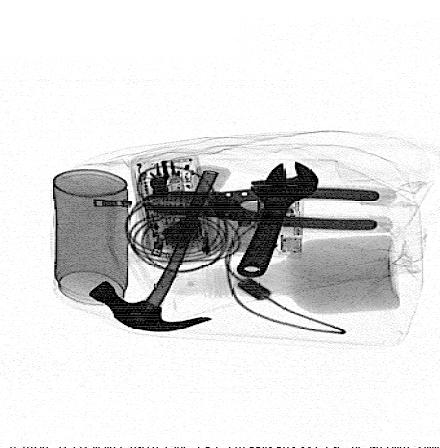Hammer: (88, 164, 233, 332)
Pliers: (141, 186, 382, 231)
Powerbank: (134, 191, 302, 257)
Wrench: (233, 161, 320, 278)
